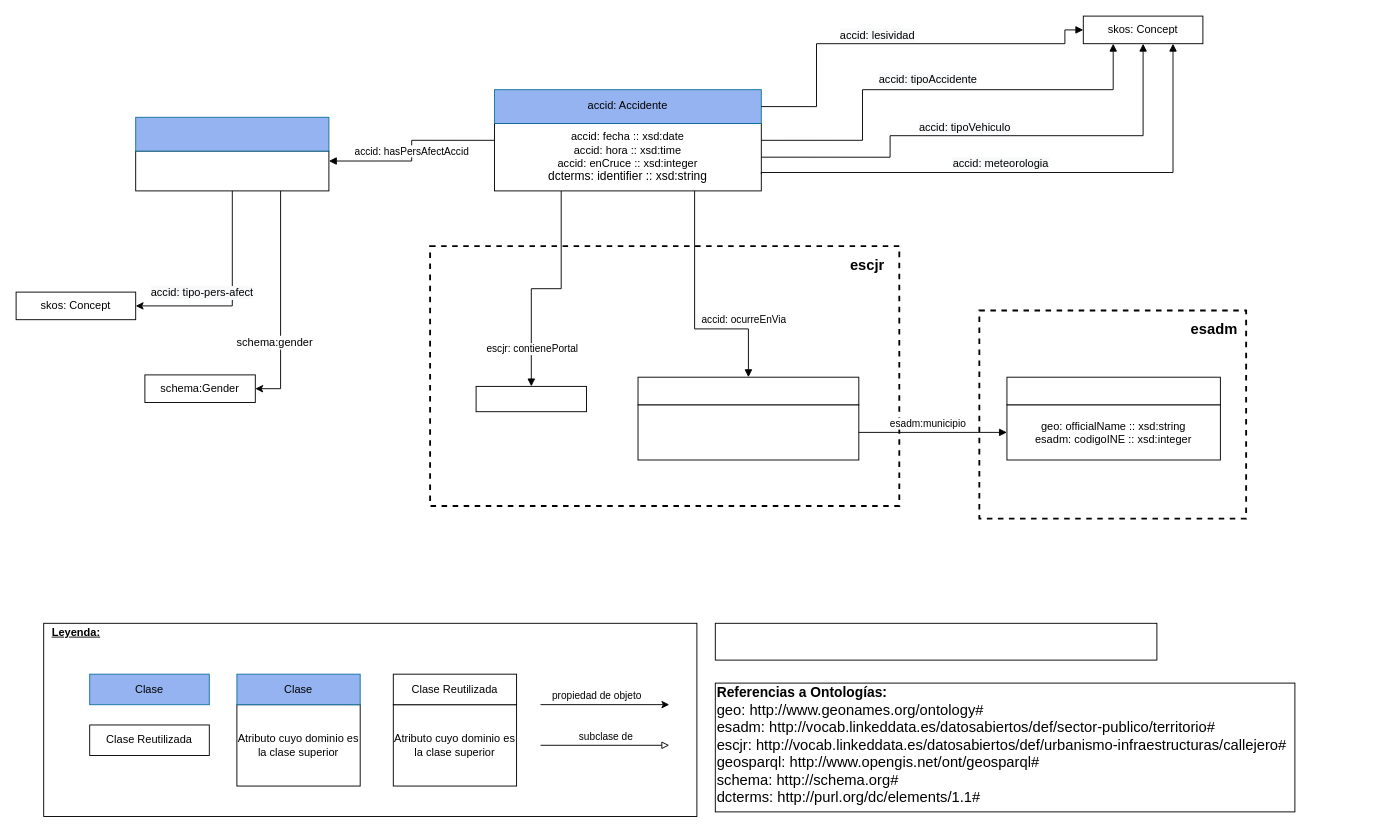
Image size: 1385x840. Some labels were removed from this diagram. The shapes that lost their labels are listed below. From the top down, each one's centre as x and y in pixels, then its label:
point (232, 133): accid: Persona-Afectada-Accid
point (232, 170): schema: typicalAgeRange
point (530, 398): escjr: Portal
point (748, 390): escjr: Via
point (1113, 390): esadm: Municipio
point (748, 432): geo: officialName :: xsd:string
point (935, 641): Ontologías: accid: http://vocab.ciudadesabiertas.es/def/transporte/accidente#
